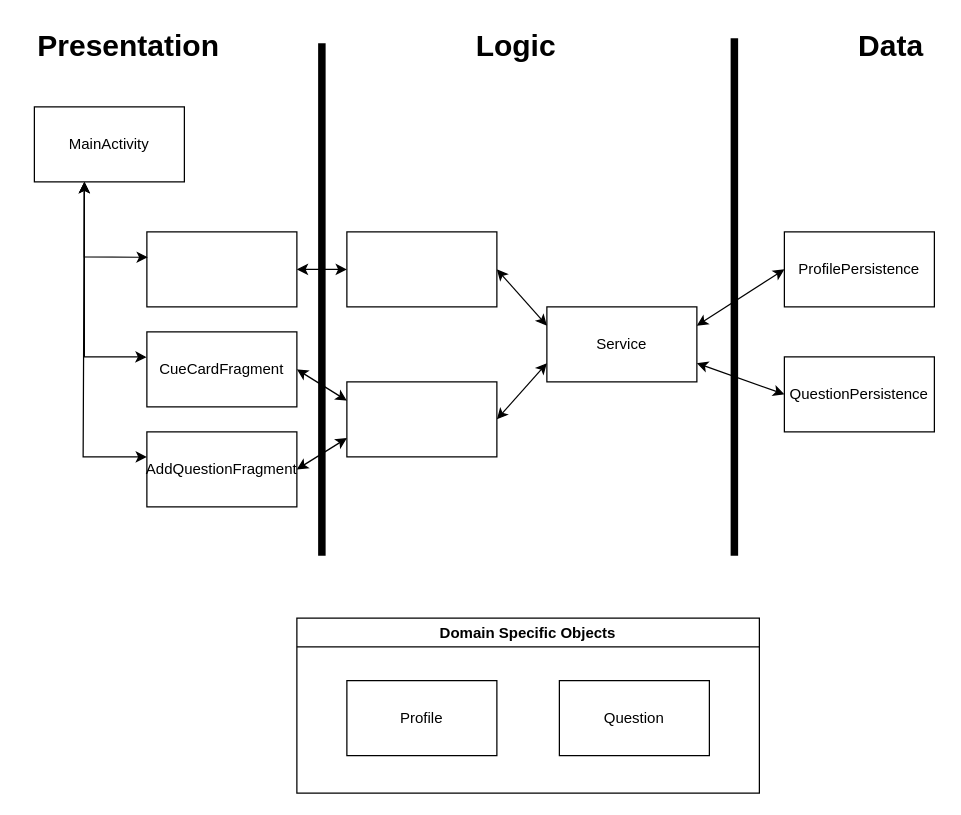
The diagram is 961 pixels wide and 815 high, and some of its shapes have lost their labels. Here are the shapes that lost their labels. From the top down, the centre of each, then its label:
At [221,269]: "HomeFragment".
At [421,269]: "ProfileHandler".
At [421,419]: "QuestionHandler".
